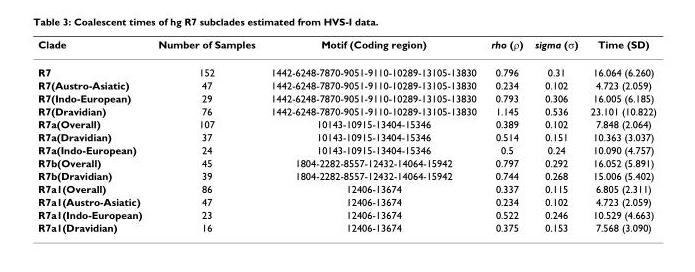table: (37, 37, 655, 233)
table column: (262, 37, 483, 233), (149, 37, 262, 233), (37, 37, 149, 233), (583, 37, 655, 233), (528, 37, 583, 233), (483, 37, 528, 233)
table column header: (37, 37, 655, 57)
table row: (37, 57, 655, 78), (37, 37, 655, 57), (37, 78, 655, 91), (37, 91, 655, 104), (37, 104, 655, 117), (37, 117, 655, 130), (37, 130, 655, 143), (37, 143, 655, 156), (37, 156, 655, 169), (37, 181, 655, 194), (37, 194, 655, 207), (37, 207, 655, 220), (37, 220, 655, 233), (37, 169, 655, 181)
